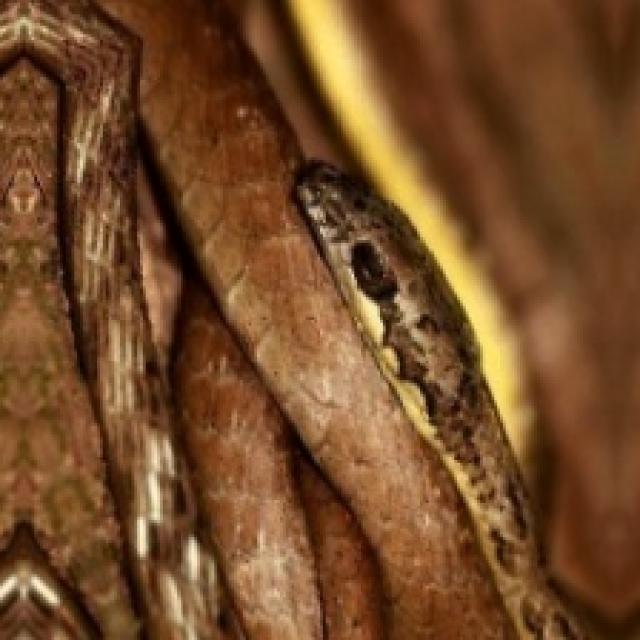philippine whip snake: (297, 163, 574, 637), (284, 0, 535, 469)
